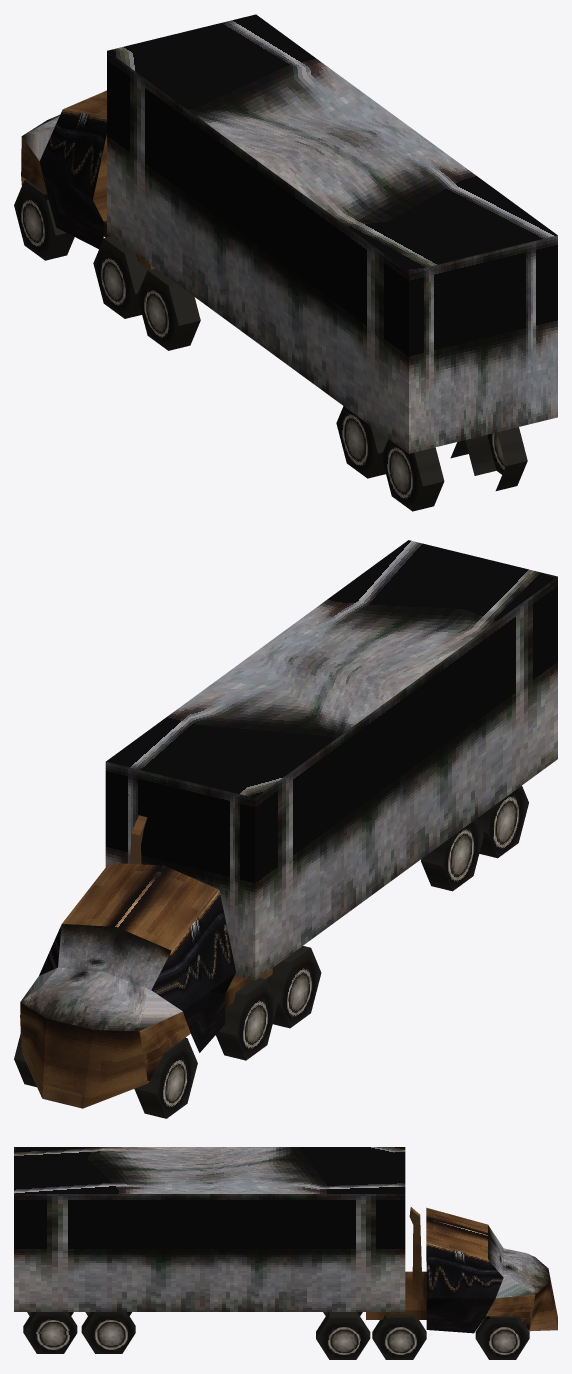
3 renders of one model, top to bottom at view 1: azimuth 30°, elevation 25°; view 2: azimuth 150°, elevation 25°; view 3: azimuth 270°, elevation 25°, orthographic. The views are drawn at different scales.
Parts seen in each view (by area): view 1: prim136-tarpaulin truck; view 2: prim136-tarpaulin truck; view 3: prim136-tarpaulin truck.
Part boxes in pixels (<box>): prim136-tarpaulin truck: <box>14,14,557,511</box>; prim136-tarpaulin truck: <box>14,540,557,1118</box>; prim136-tarpaulin truck: <box>14,1147,557,1359</box>.
Bounding box in the file's own units: 306 × 506 × 1492.
5 materials, 5 textured.
